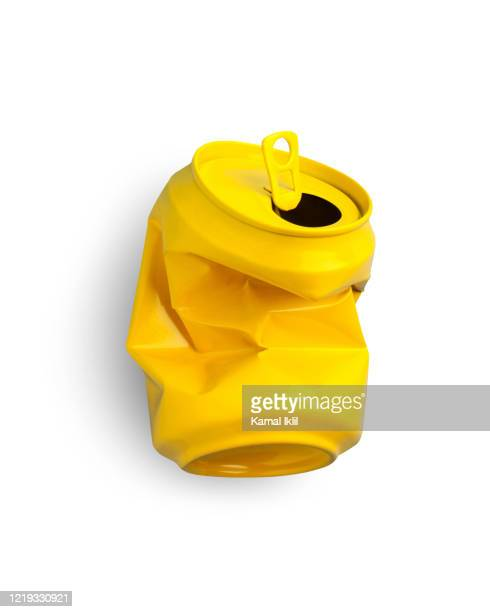can: (125, 126, 377, 480)
